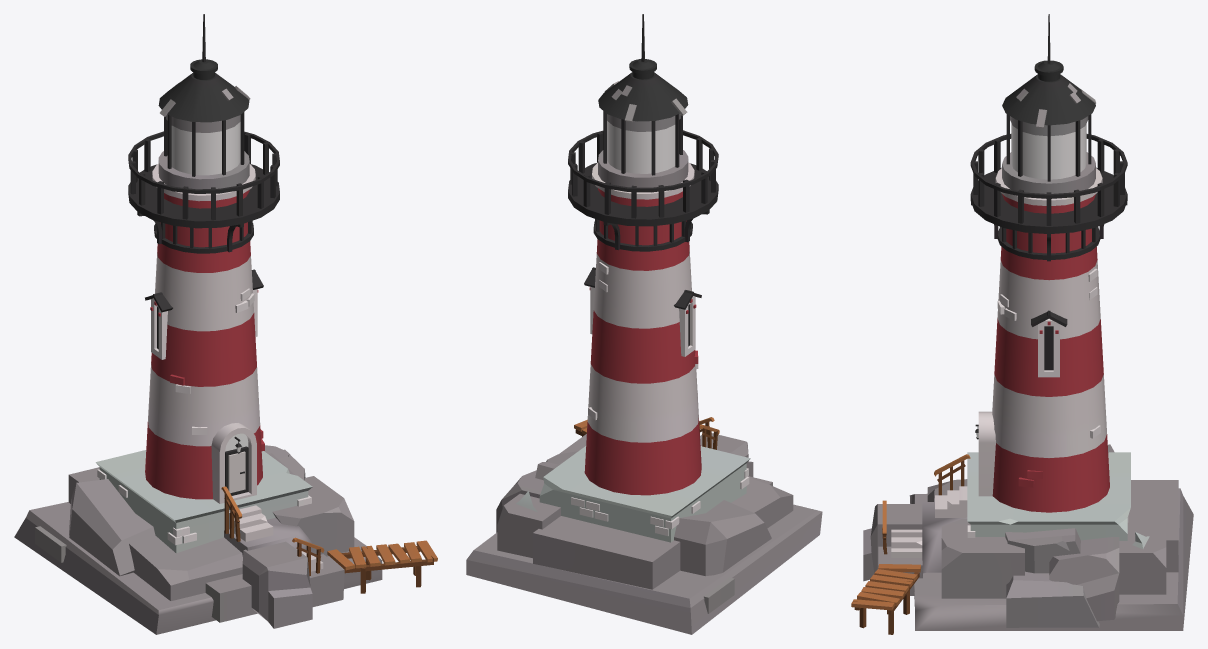
File: faro.glb
3 views of the same model, side by side, from view 1: azimuth 30°, elevation 25°; view 2: azimuth 150°, elevation 25°; view 3: azimuth 270°, elevation 25° (orthographic). The views are drawn at different scales.
Parts seen in each view (by area): view 1: Lighthouse1; view 2: Lighthouse1; view 3: Lighthouse1.
Boxes of the visible parts, left/top/right/bottom form: Lighthouse1: left=14, top=14, right=437, bottom=634; Lighthouse1: left=466, top=14, right=822, bottom=634; Lighthouse1: left=851, top=14, right=1193, bottom=634.
Size of the model in its own units: 10.05 by 19.7 by 10.92.
Materials: 1 (1 with a texture image).
